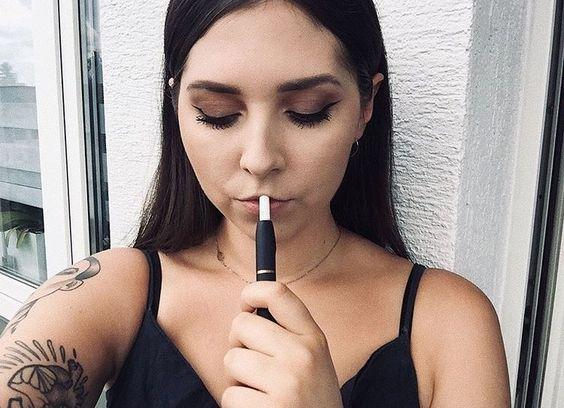iqos: (255, 194, 276, 323)
